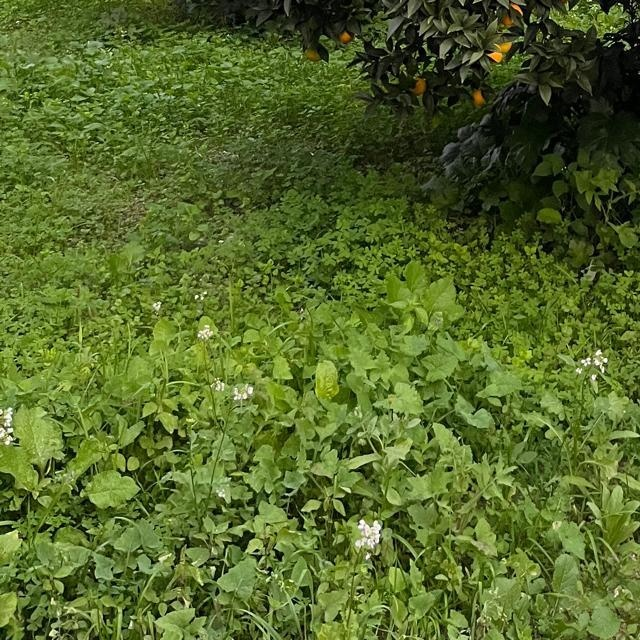orange: (494, 0, 526, 28), (409, 70, 427, 98), (468, 83, 488, 107), (334, 28, 352, 44), (485, 44, 501, 62), (304, 46, 324, 60), (499, 41, 513, 53)
